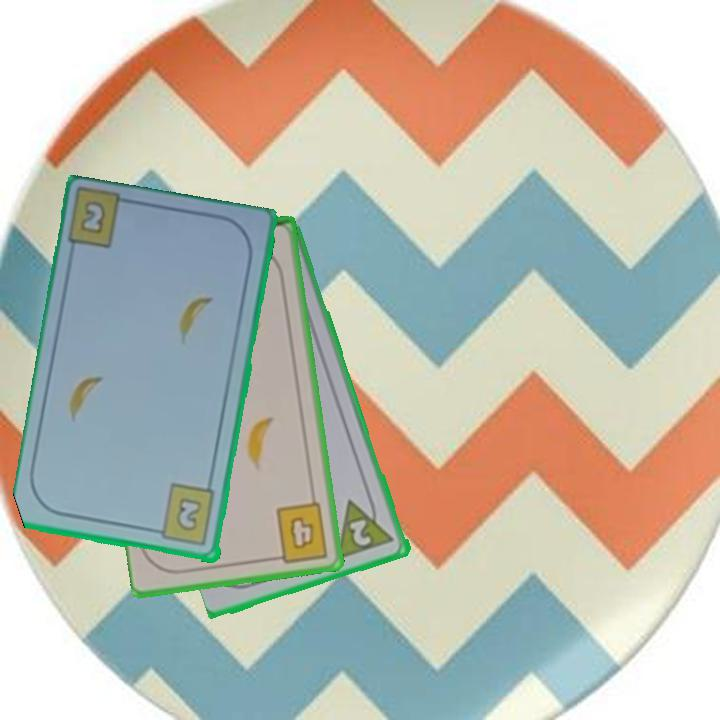2b: (149, 481, 219, 549), (77, 197, 109, 238)
2p: (334, 490, 398, 563)
4b: (269, 499, 331, 565)
